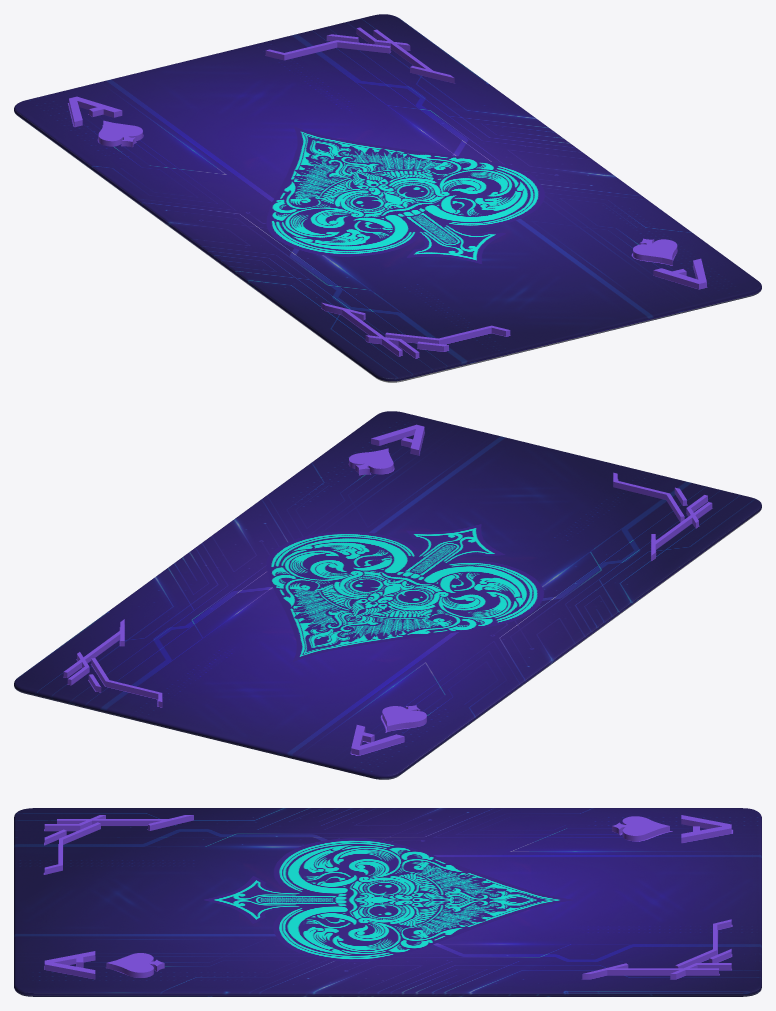
The model's file is Aze.gltf.
3 renders of one model, top to bottom at view 1: azimuth 30°, elevation 25°; view 2: azimuth 150°, elevation 25°; view 3: azimuth 270°, elevation 25°, orthographic.
Visible parts, largest first — view 1: Curve.005; view 2: Curve.005; view 3: Curve.005.
Boxes of the visible parts, <box> form: Curve.005: <box>14,14,761,382</box>; Curve.005: <box>14,411,761,779</box>; Curve.005: <box>14,808,761,996</box>.
Size of the model in its own units: 1.85 by 0.075 by 3.16.
3 materials, 2 textured.
